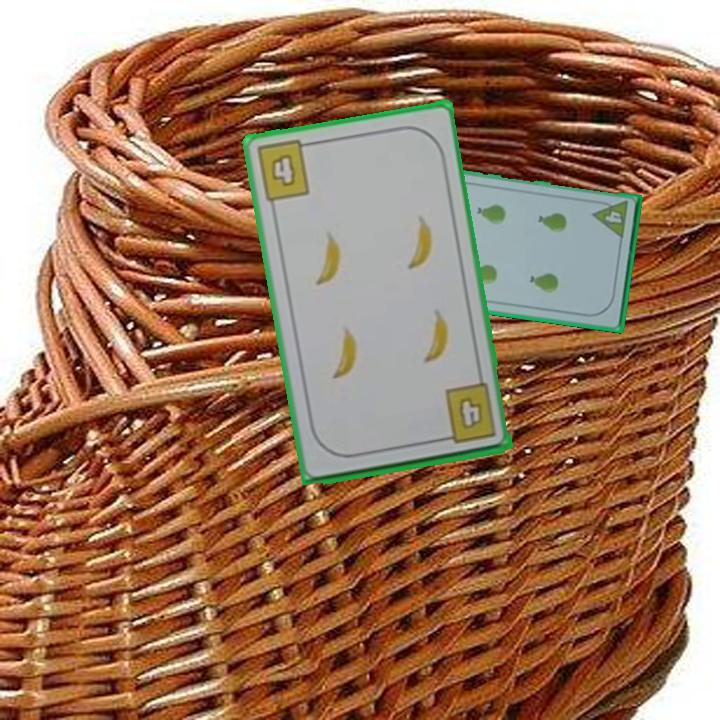4b: (252, 137, 316, 204), (436, 380, 499, 447)
4p: (590, 197, 630, 242)
